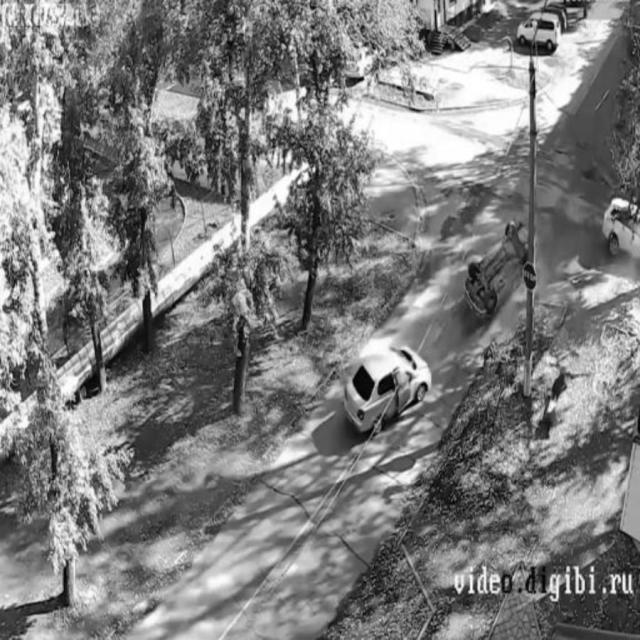vehicle: (344, 339, 432, 435), (473, 214, 530, 318), (604, 196, 640, 263), (517, 14, 561, 51)
